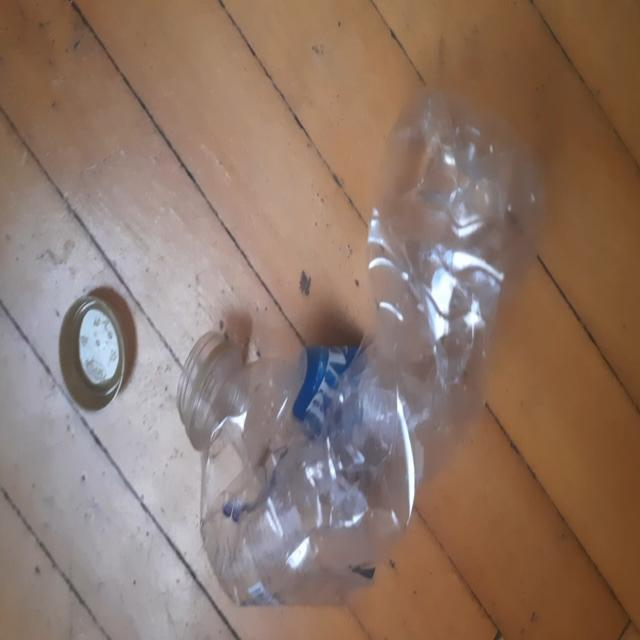Plastic: (185, 85, 545, 607)
